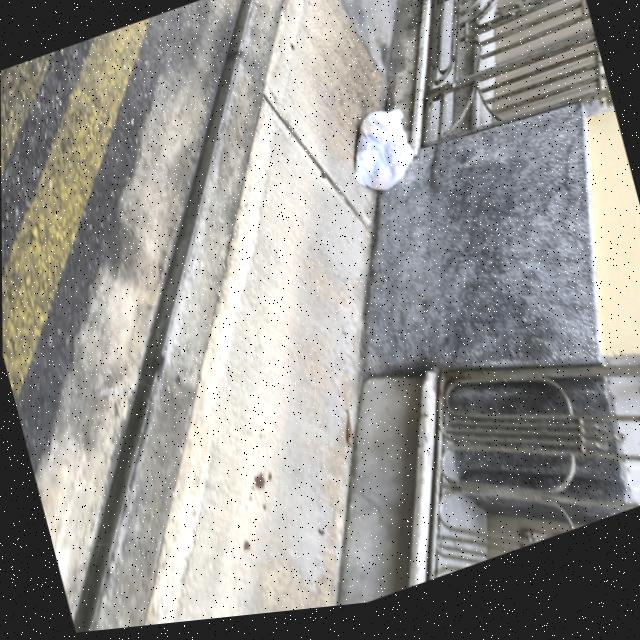Organic Waste -White Bag-: (338, 106, 422, 212)
